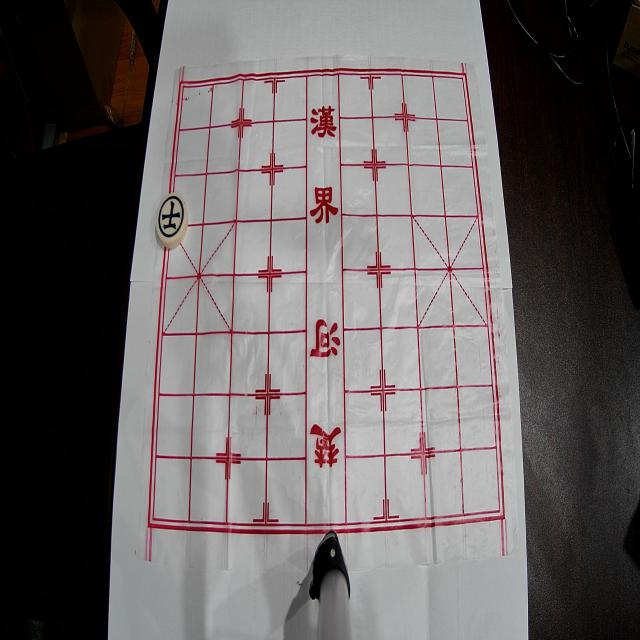black-guard: (156, 192, 188, 250)
